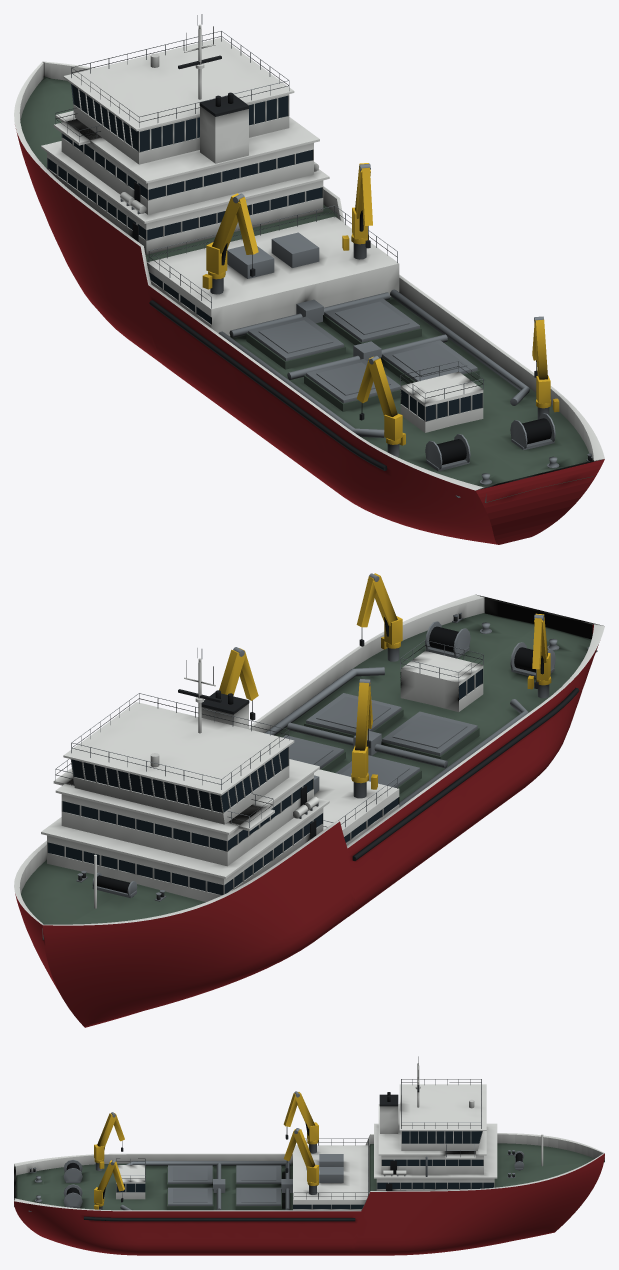
File: wellboat_LOD0.glb
3 renders of one model, top to bottom at view 1: azimuth 30°, elevation 25°; view 2: azimuth 150°, elevation 25°; view 3: azimuth 270°, elevation 25°, orthographic. The views are drawn at different scales.
Parts seen in each view (by area): view 1: Superstructure, Hull, Machinery, Deck, Windows, Crane, Rubber; view 2: Superstructure, Hull, Deck, Machinery, Windows, Crane, Rubber; view 3: Hull, Superstructure, Deck, Machinery, Windows, Crane, Rubber.
Part boxes in pixels (x1,y1,x2,y2): Superstructure: [14, 24, 604, 502]; Hull: [15, 128, 604, 544]; Machinery: [55, 14, 592, 497]; Deck: [20, 76, 593, 502]; Windows: [47, 84, 482, 421]; Crane: [202, 163, 559, 445]; Rubber: [132, 26, 551, 470]; Superstructure: [14, 594, 604, 940]; Hull: [15, 624, 598, 1027]; Deck: [21, 613, 591, 924]; Machinery: [55, 573, 597, 901]; Windows: [48, 668, 482, 895]; Crane: [219, 573, 551, 789]; Rubber: [97, 617, 579, 893]; Hull: [14, 1153, 604, 1255]; Superstructure: [14, 1063, 604, 1211]; Deck: [16, 1143, 604, 1210]; Machinery: [28, 1056, 524, 1211]; Windows: [116, 1131, 493, 1208]; Crane: [94, 1092, 318, 1209]; Rubber: [66, 1070, 522, 1221].
Size of the model in its own units: 18.5 by 25.22 by 76.96.
